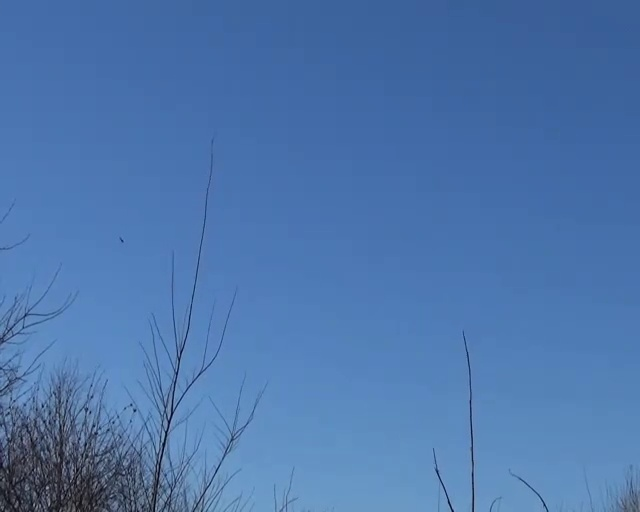BIRD: (117, 235, 125, 244)
